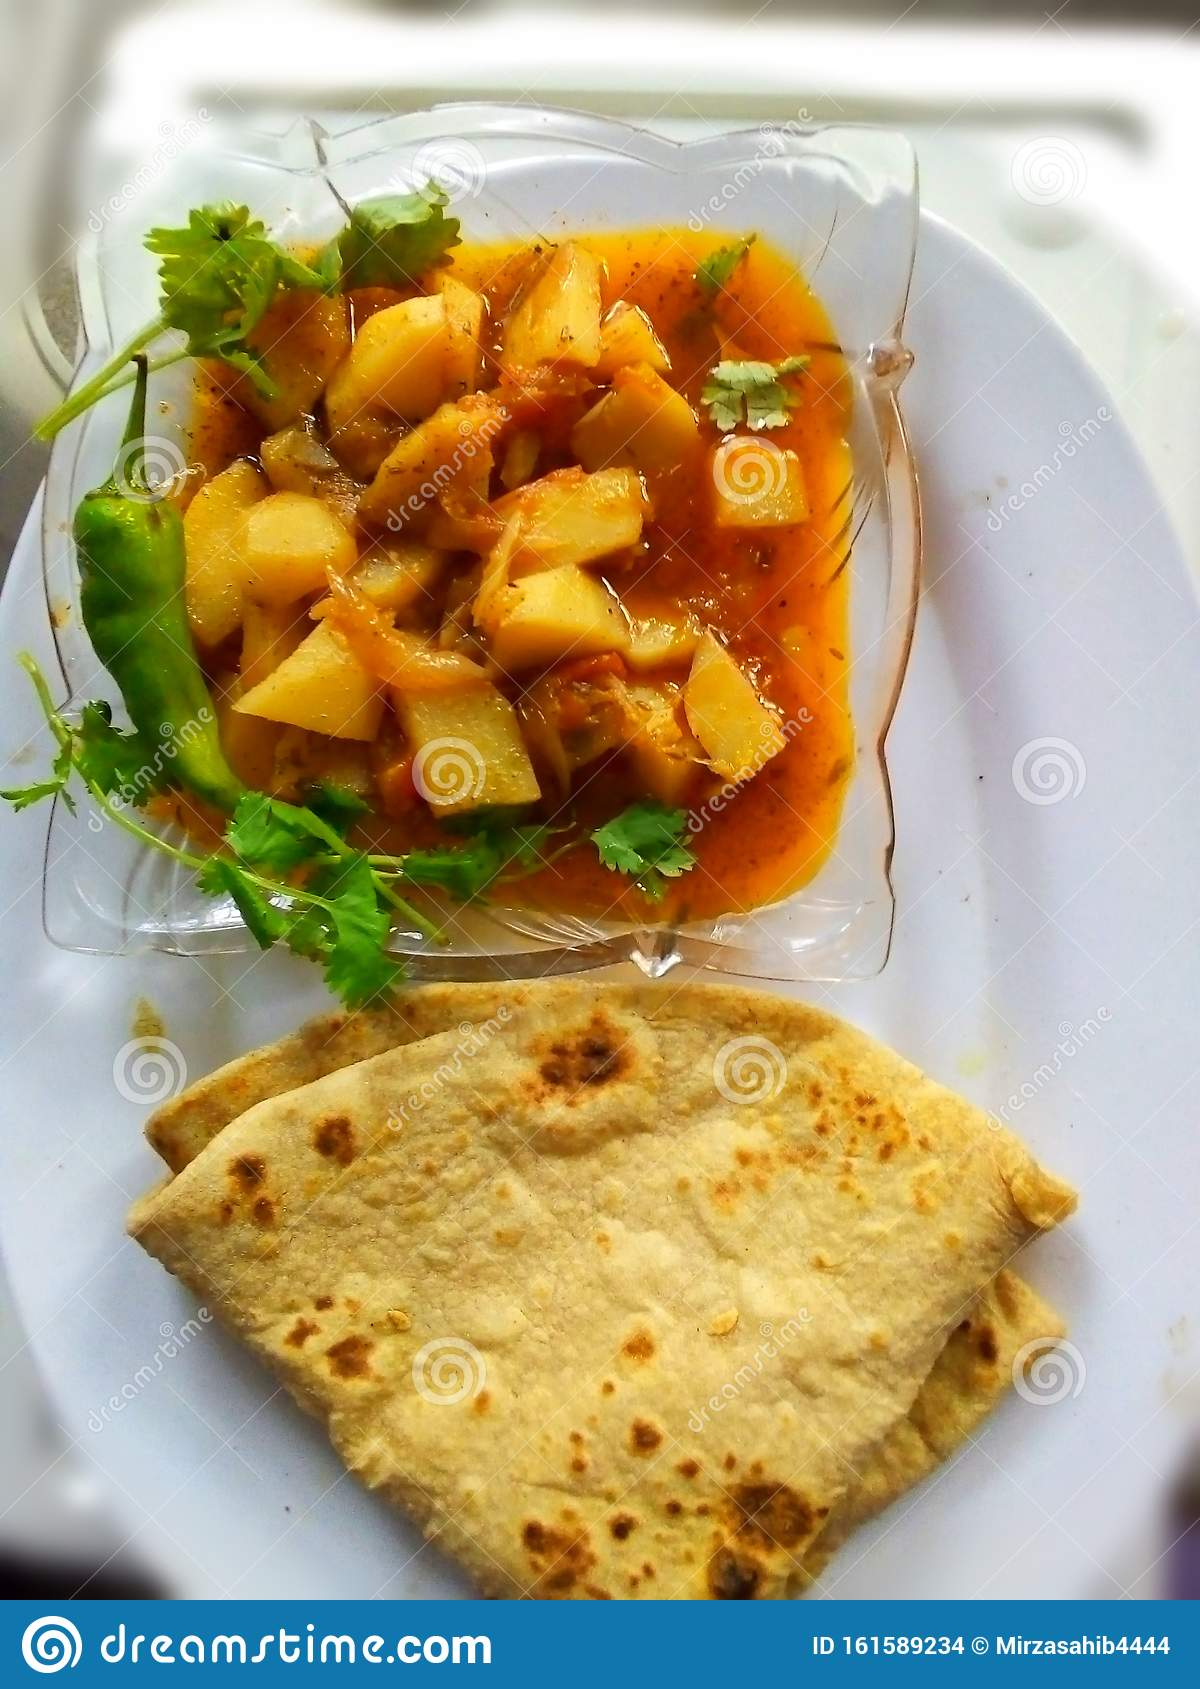curry: (117, 180, 853, 904)
roti: (130, 968, 1112, 1607)
